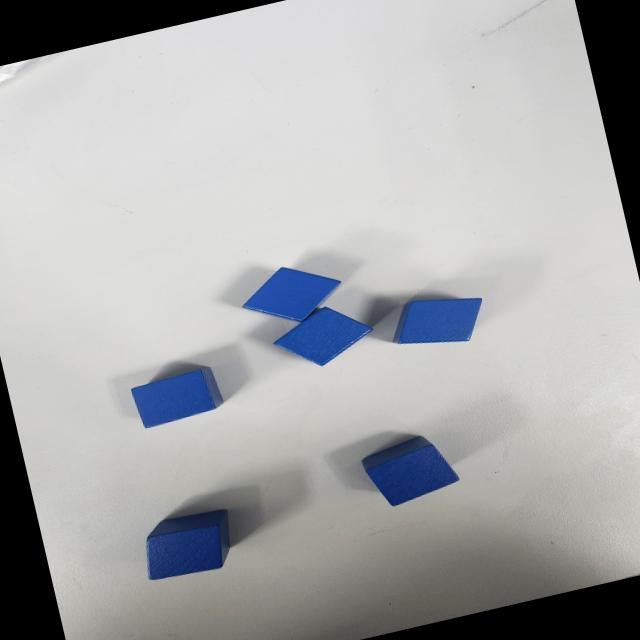blue: (234, 253, 350, 334), (265, 295, 379, 376), (357, 428, 462, 512), (136, 505, 240, 584), (384, 284, 492, 358), (128, 366, 225, 430)
